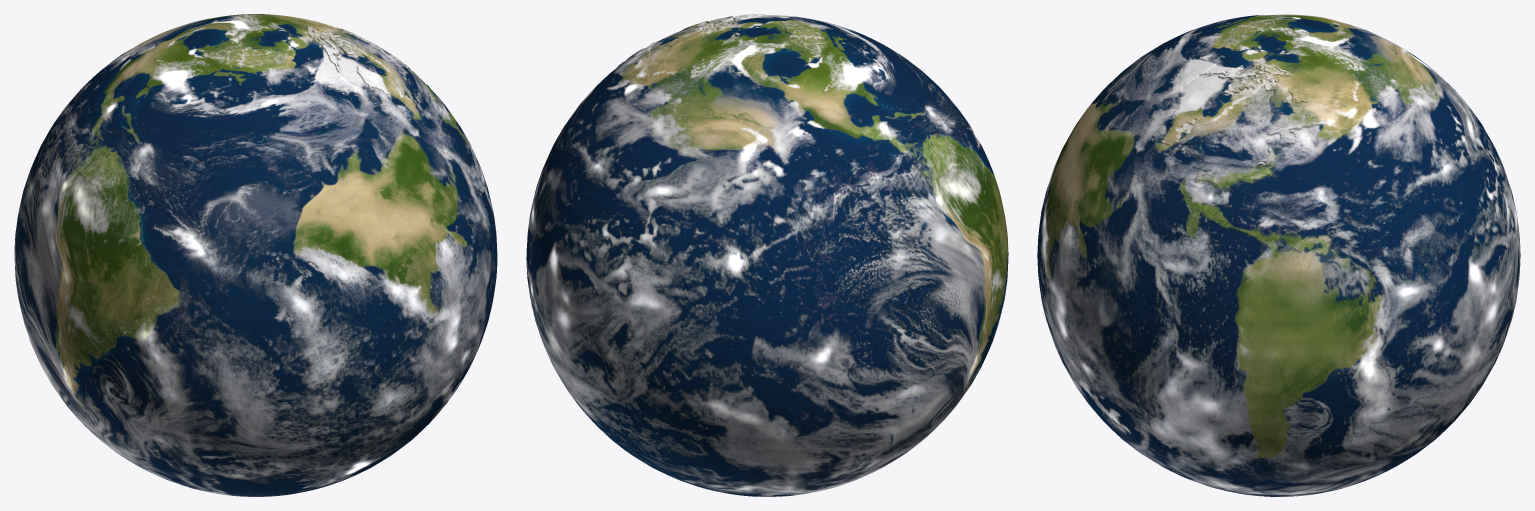
File: cinnova-earth.glb
The picture shows the model from 3 angles, left to right: view 1: azimuth 30°, elevation 25°; view 2: azimuth 150°, elevation 25°; view 3: azimuth 270°, elevation 25°; orthographic projection.
Size of the model in its own units: 1.9 by 1.9 by 1.9.
1 material, 1 textured.
